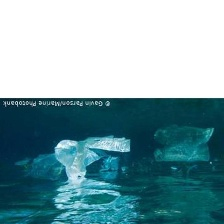plastic_bag: (50, 132, 133, 185), (148, 120, 215, 165)
